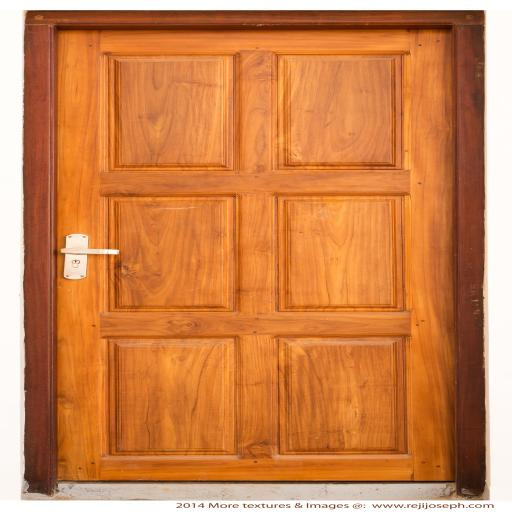Door: (23, 10, 488, 500)
